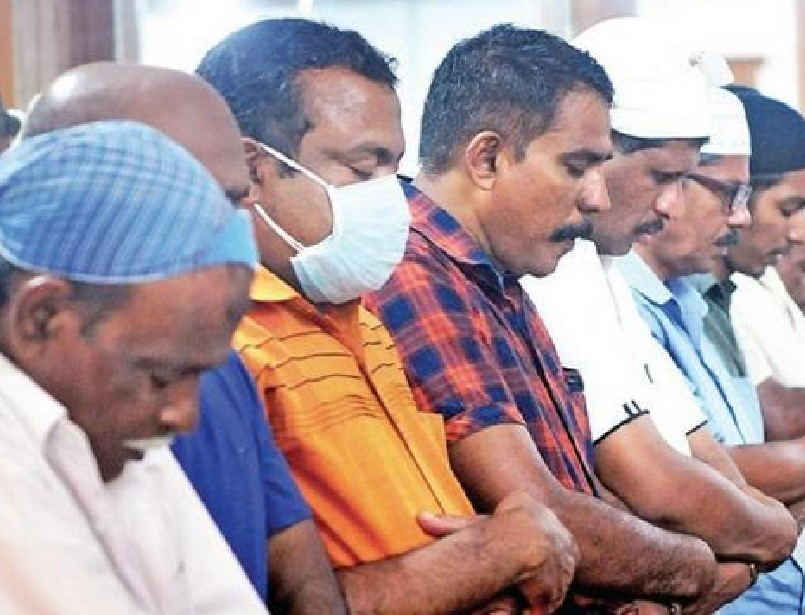face_no_mask: (16, 160, 239, 510), (450, 36, 614, 284), (582, 67, 690, 280), (681, 113, 755, 294), (727, 124, 805, 286)
face_with_mask: (213, 20, 415, 311)
